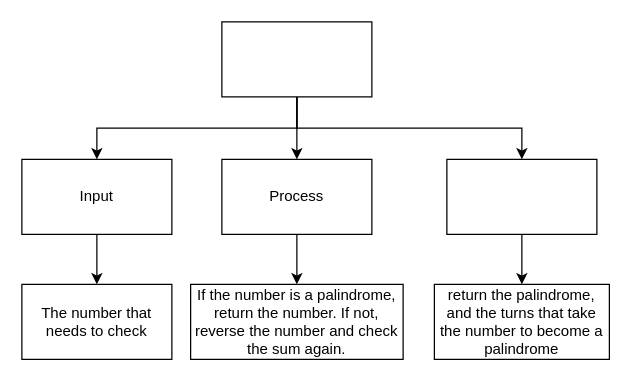
Some shapes in this 631 by 381 pixel diagram are drawn without their labels. Here are the shapes that lost their labels. From the top down, the centre of each, then its label:
At point (296, 59): "Palindrome".
At point (521, 196): "Output".
